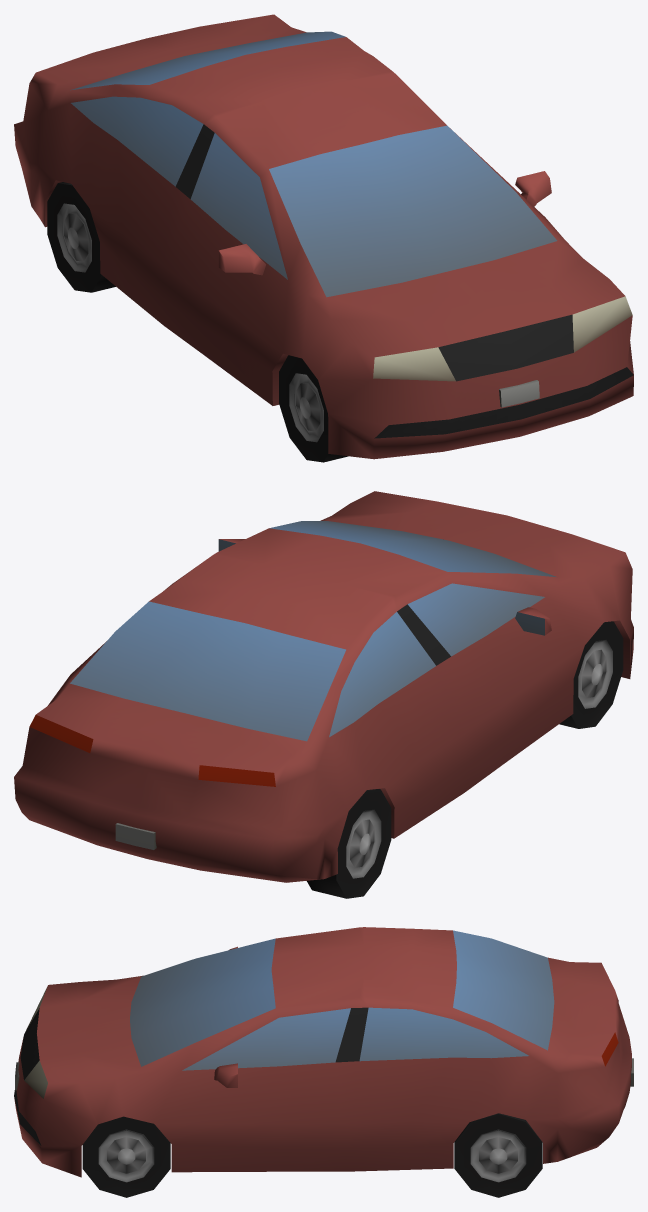
The model's file is vehicles-cars-sedan_v1.glb.
The picture shows the model from 3 angles, top to bottom: view 1: azimuth 30°, elevation 25°; view 2: azimuth 150°, elevation 25°; view 3: azimuth 270°, elevation 25°; orthographic projection. The views are drawn at different scales.
Visible parts, largest first — view 1: Sedan_v1.001, Sedan_v1; view 2: Sedan_v1.001, Sedan_v1; view 3: Sedan_v1.001, Sedan_v1.
Part boxes in pixels (<box>): Sedan_v1.001: <box>14,14,633,462</box>; Sedan_v1: <box>57,31,557,442</box>; Sedan_v1.001: <box>14,491,633,898</box>; Sedan_v1: <box>70,521,612,878</box>; Sedan_v1.001: <box>14,927,633,1197</box>; Sedan_v1: <box>98,930,554,1182</box>.
Size of the model in its own units: 2.24 by 1.49 by 4.6.
